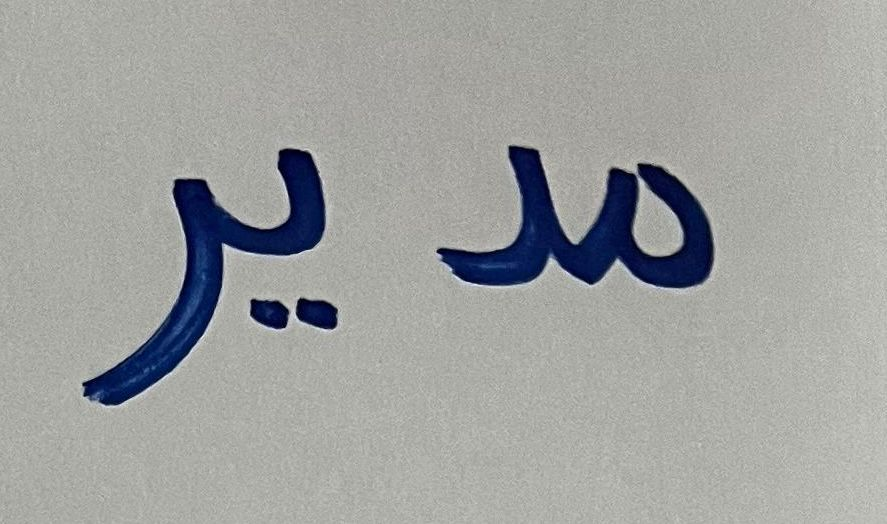dal: (407, 88, 557, 353)
meem: (564, 117, 771, 370)
reh: (48, 117, 228, 467)
yeh: (233, 91, 403, 362)
